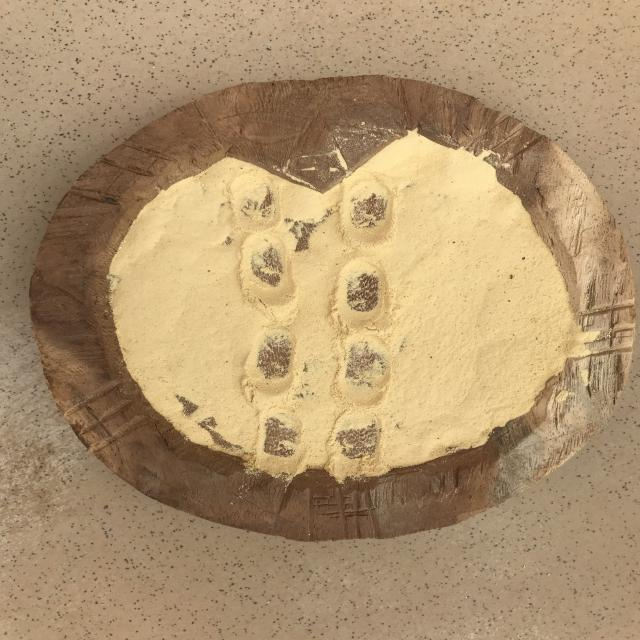single: (329, 332, 401, 404), (237, 230, 300, 312), (330, 253, 395, 330), (338, 171, 398, 251), (241, 323, 301, 398), (326, 408, 392, 475), (254, 402, 312, 469), (226, 172, 284, 234)
